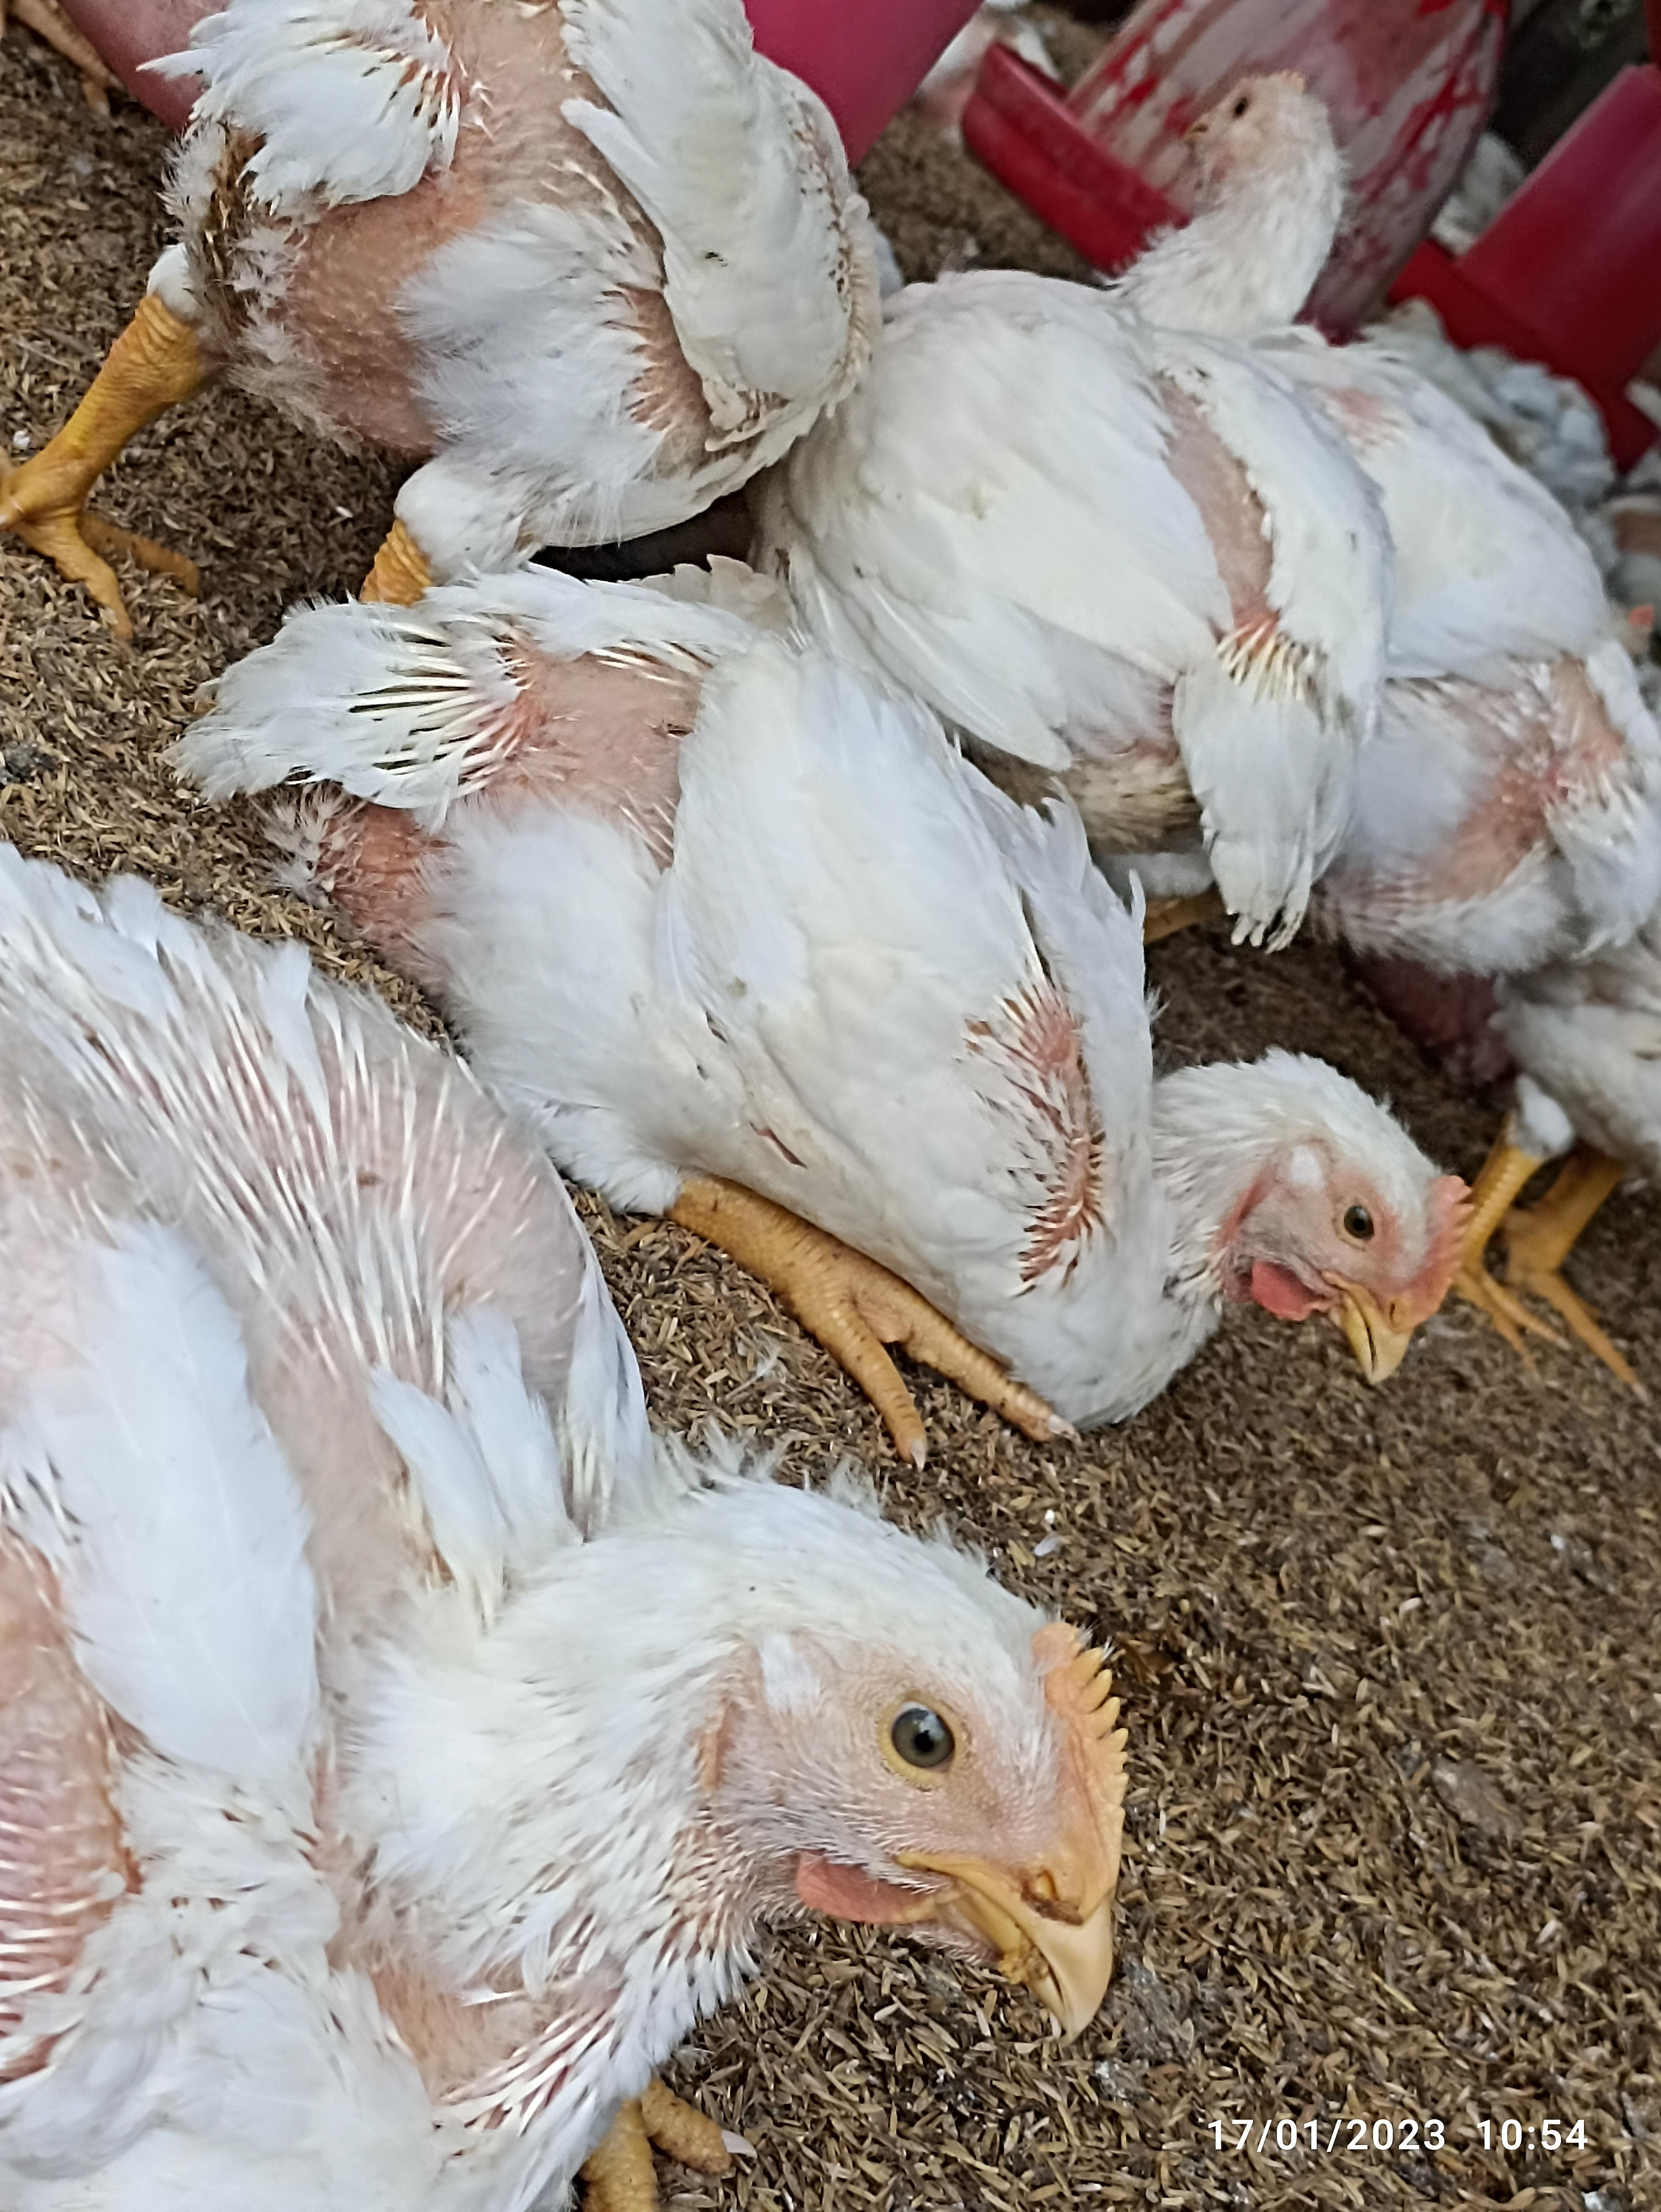Pollos: (0, 867, 1122, 2154), (436, 579, 1469, 1389), (1159, 77, 1661, 904), (190, 0, 865, 546)
